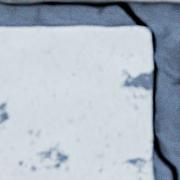brick: (0, 26, 153, 179), (59, 0, 179, 2), (0, 0, 48, 3)
crack: (0, 0, 179, 179)
